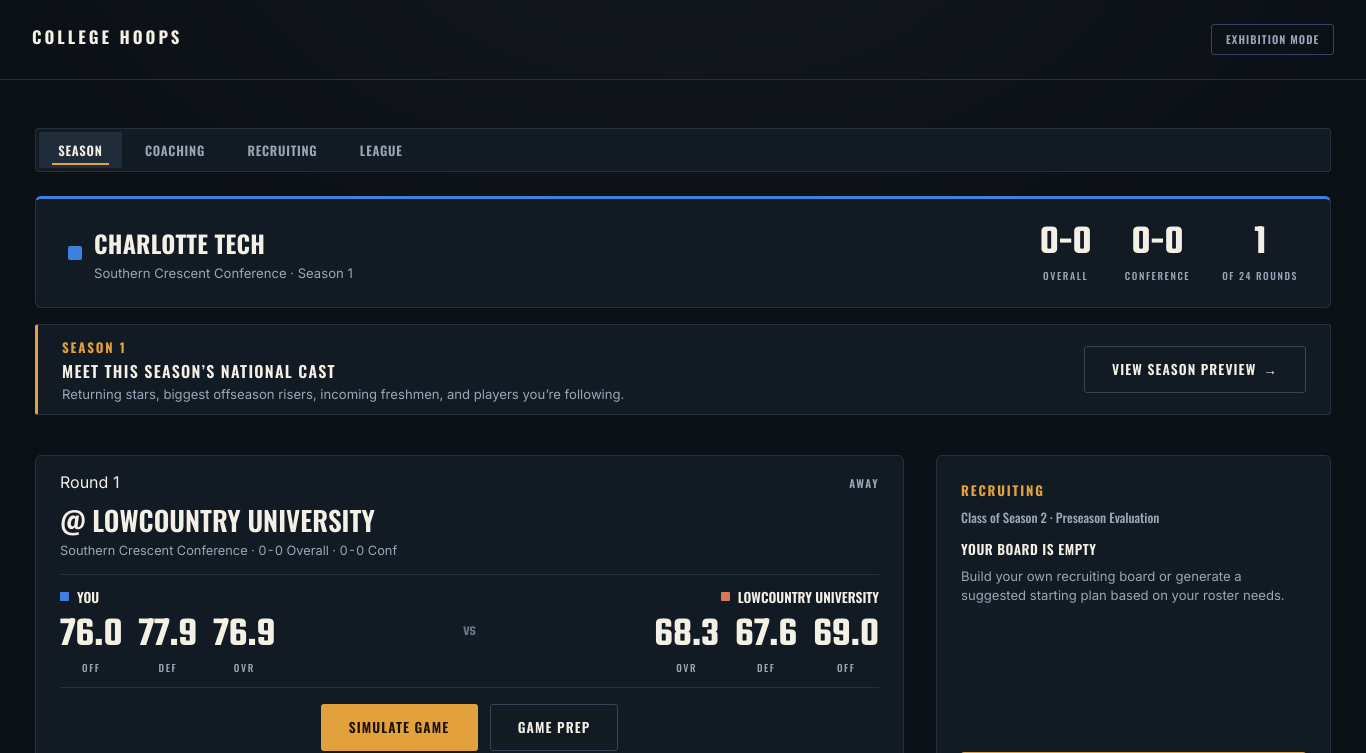
League navigation › opens League from the Season Hub via the section tabs, with no redundant root chrome
Click the button "League".
click(381, 150)  # box [341,132,422,168]
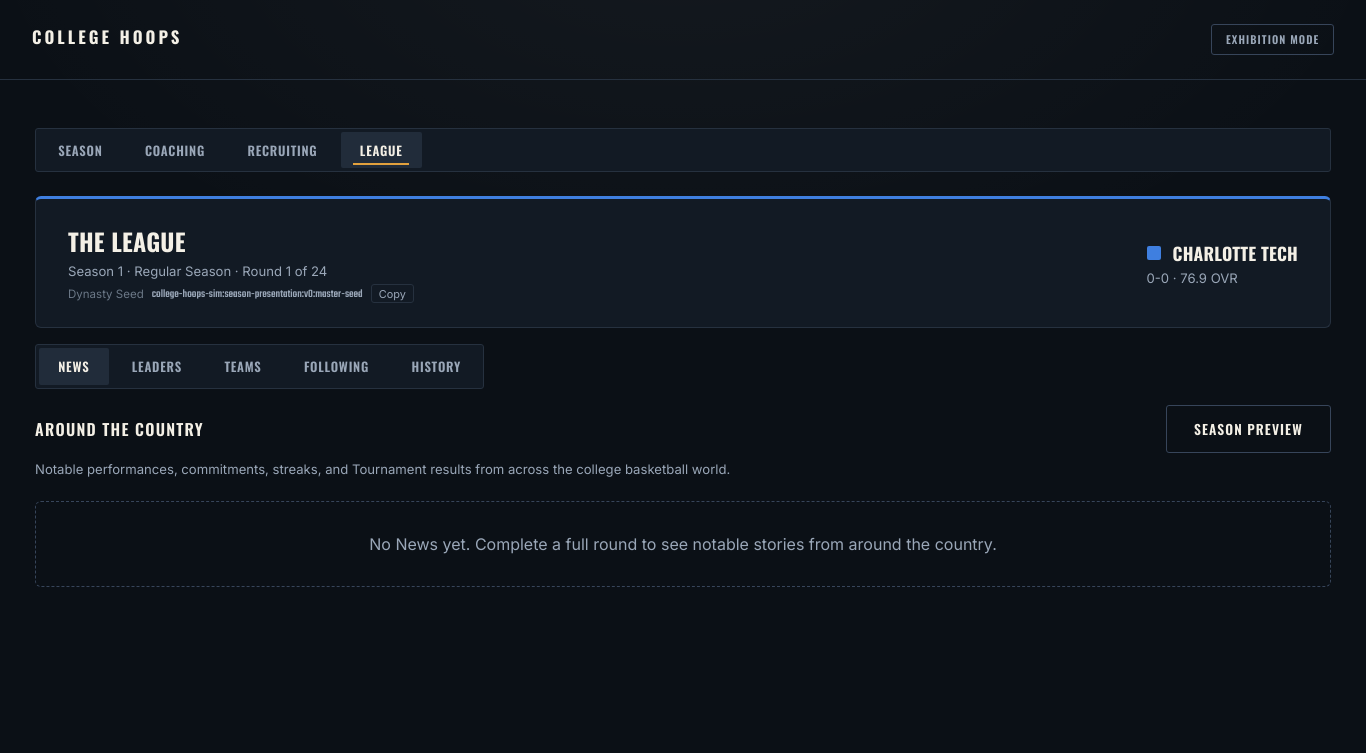
Expected: the button "Leaders" is shown, [113,348,201,385]
Expected: the button "Teams" is shown, [205,348,281,385]
